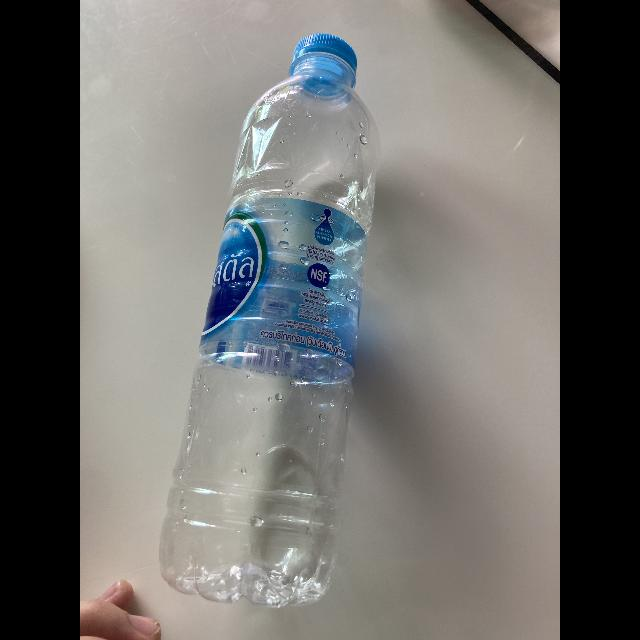plastic_bottle: (152, 23, 384, 622)
